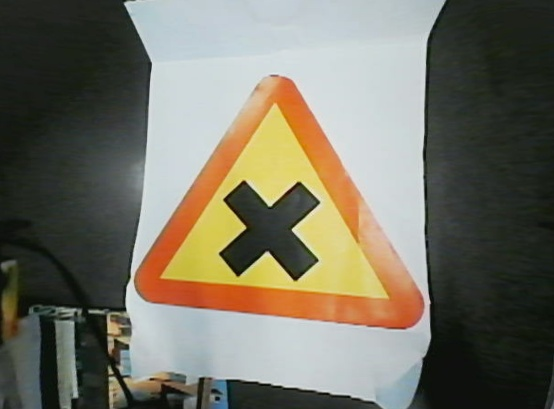junction: (131, 75, 430, 334)
